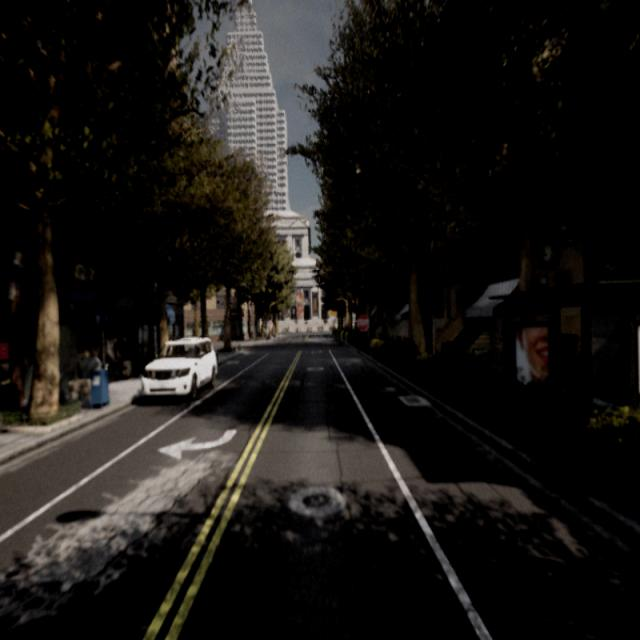stop sign: (354, 310, 371, 333)
